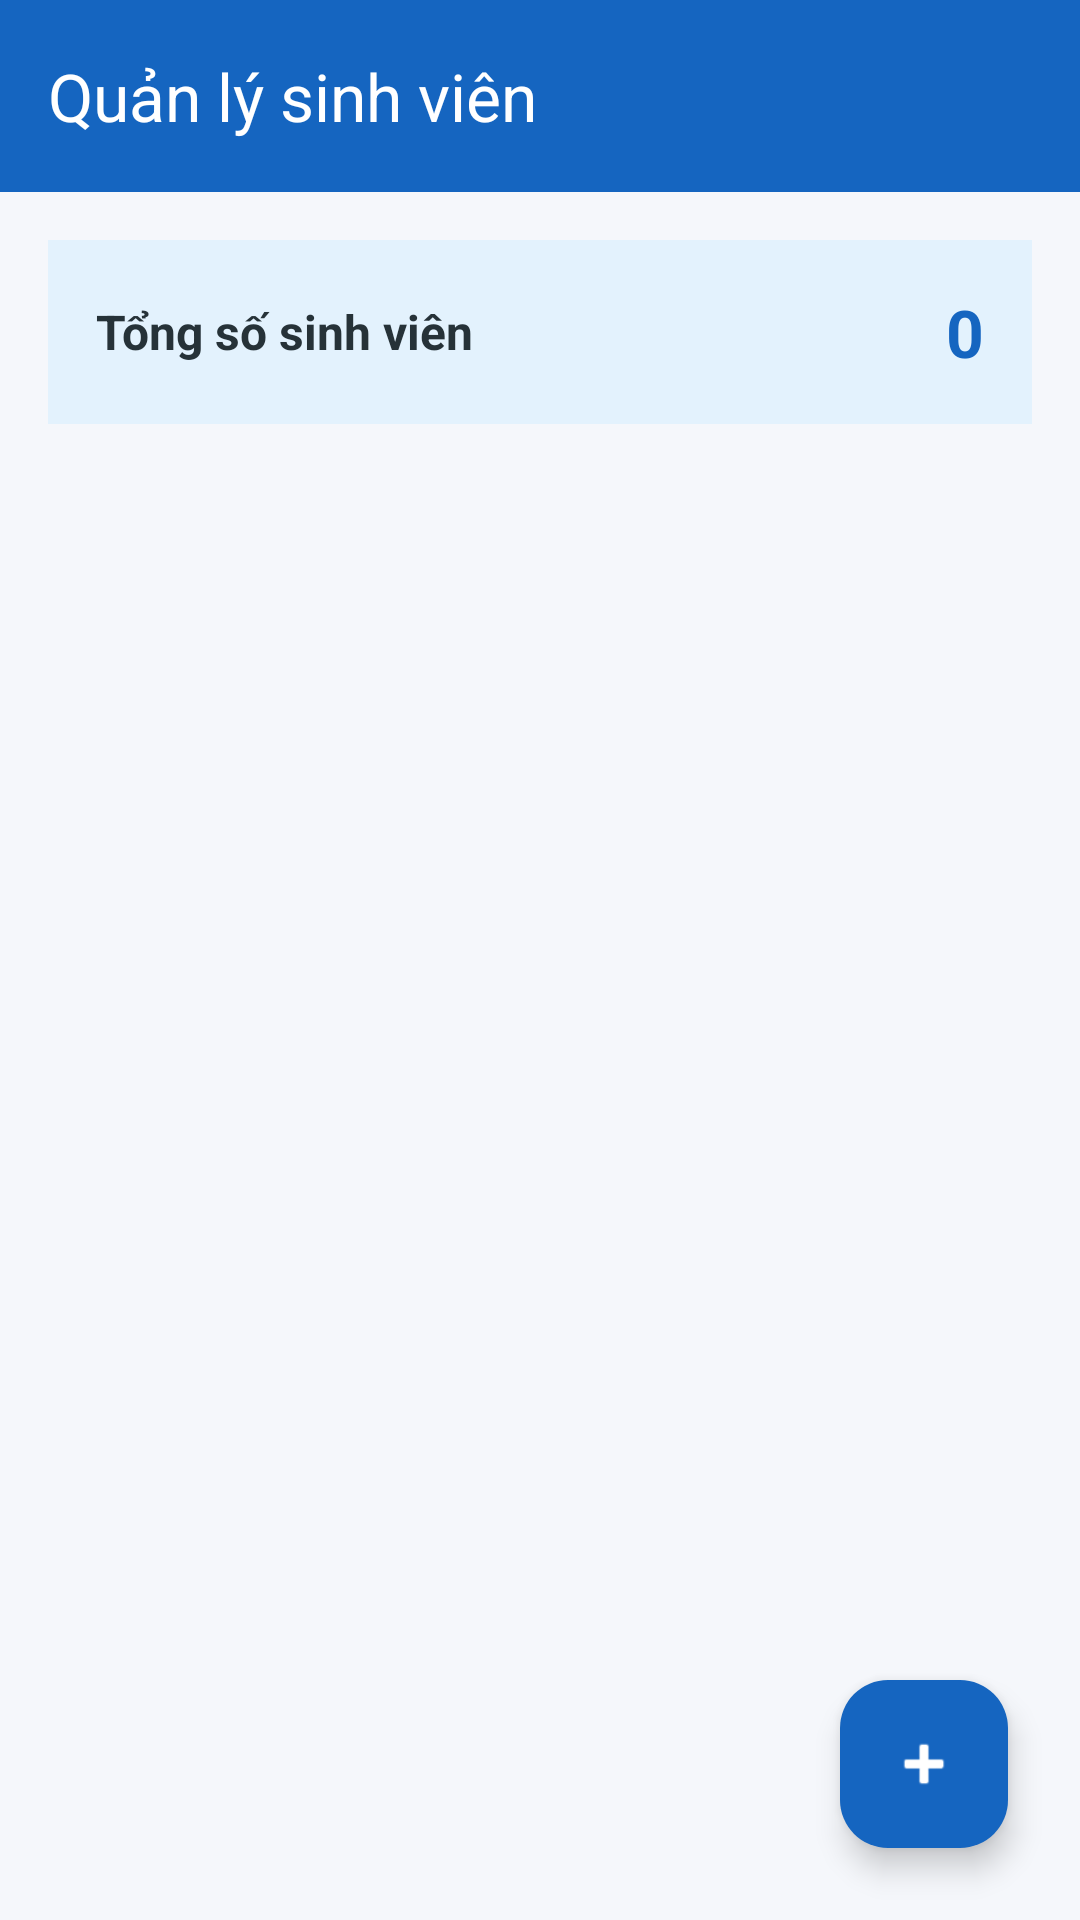

Icons on this 1080x1920 Android screen, each with its box as bbox=(x1, y1, x2, y2):
Thêm sinh viên: bbox=(840, 1680, 1008, 1848)
